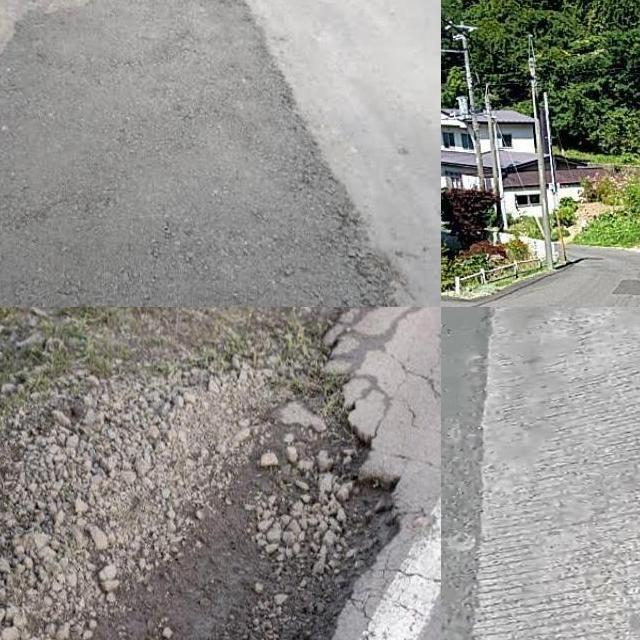Pinggir: (63, 318, 410, 640)
Sambungan: (0, 0, 389, 307), (470, 307, 640, 640), (615, 278, 640, 296)
